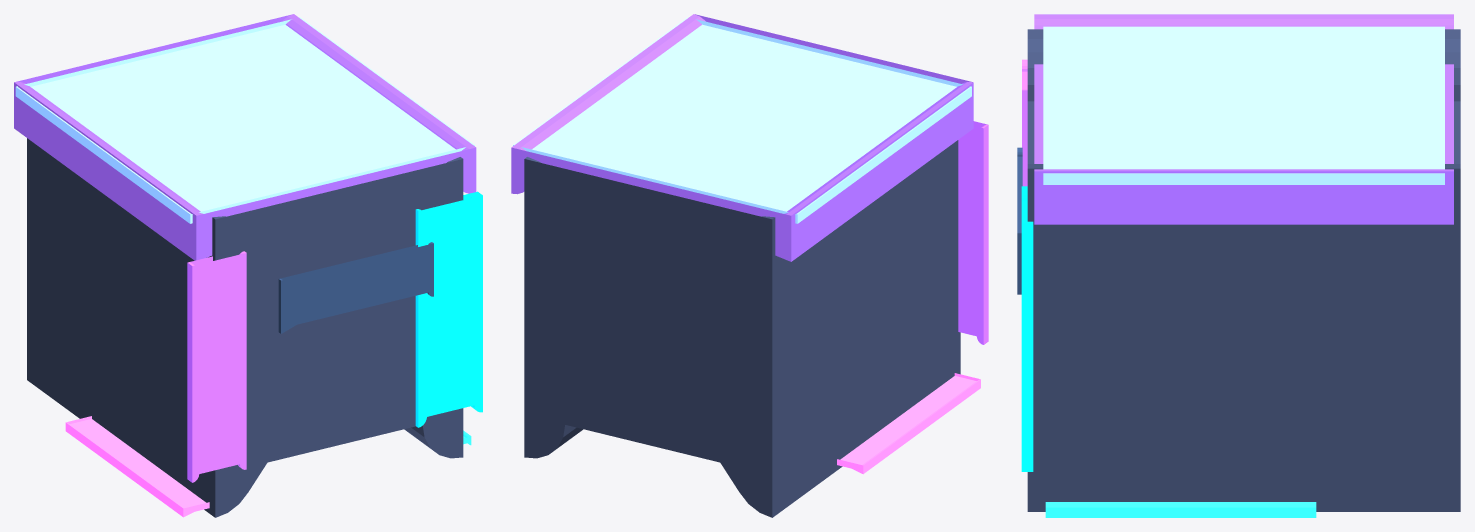
The model's file is SpalakhBlockNeon_v094.glb.
3 renders of one model, left to right at view 1: azimuth 30°, elevation 25°; view 2: azimuth 150°, elevation 25°; view 3: azimuth 270°, elevation 25°, orthographic. The views are drawn at different scales.
Bounding box in the file's own units: 0.861 × 0.855 × 0.983.
